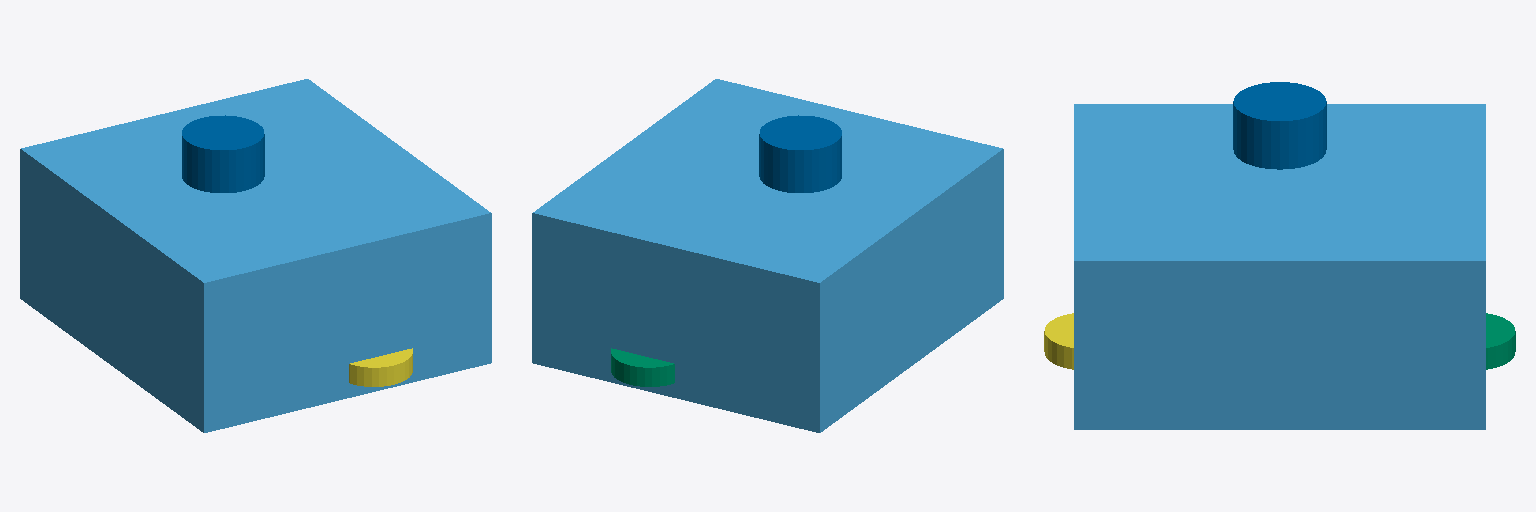
The robot description file, URDF, robot "turtlebot3_waffle":
<robot name="turtlebot3_waffle">
  
  <link name="base_footprint" />

  
  <link name="base_link">
    <visual>
      <geometry>
        <box size="0.28 0.31 0.14" />
      </geometry>
      <origin xyz="-0.032 0 0.07" />
    </visual>
    <collision>
      <geometry>
        <box size="0.28 0.31 0.14" />
      </geometry>
      <origin xyz="-0.032 0 0.07" />
    </collision>
    <inertial>
      <mass value="1.37" />
      <origin xyz="0 0 0" />
      <inertia ixx="0.0087" ixy="0" ixz="0" iyy="0.0086" iyz="0" izz="0.0146" />
    </inertial>
  </link>

  
  <joint name="base_joint" type="fixed">
    <parent link="base_footprint" />
    <child link="base_link" />
    <origin xyz="0 0 0.10" rpy="0 0 0" />
  </joint>

  
  <link name="wheel_left_link">
    <visual>
      <geometry>
        <cylinder length="0.018" radius="0.033" />
      </geometry>
      <origin xyz="0 0 0" rpy="1.57 0 0" />
    </visual>
    <collision>
      <geometry>
        <cylinder length="0.018" radius="0.033" />
      </geometry>
      <origin xyz="0 0 0" rpy="1.57 0 0" />
    </collision>
    <inertial>
      <mass value="0.028" />
      <origin xyz="0 0 0" />
      <inertia ixx="1.1e-5" ixy="0" ixz="0" iyy="1.1e-5" iyz="0" izz="2.1e-5" />
    </inertial>
  </link>

  <joint name="wheel_left_joint" type="continuous">
    <parent link="base_link" />
    <child link="wheel_left_link" />
    <origin xyz="0 0.144 0.023" rpy="-1.57 0 0" />
    <axis xyz="0 0 1" />
  </joint>

  
  <link name="wheel_right_link">
    <visual>
      <geometry>
        <cylinder length="0.018" radius="0.033" />
      </geometry>
      <origin xyz="0 0 0" rpy="1.57 0 0" />
    </visual>
    <collision>
      <geometry>
        <cylinder length="0.018" radius="0.033" />
      </geometry>
      <origin xyz="0 0 0" rpy="1.57 0 0" />
    </collision>
    <inertial>
      <mass value="0.028" />
      <origin xyz="0 0 0" />
      <inertia ixx="1.1e-5" ixy="0" ixz="0" iyy="1.1e-5" iyz="0" izz="2.1e-5" />
    </inertial>
  </link>

  <joint name="wheel_right_joint" type="continuous">
    <parent link="base_link" />
    <child link="wheel_right_link" />
    <origin xyz="0 -0.144 0.023" rpy="-1.57 0 0" />
    <axis xyz="0 0 1" />
  </joint>

  
  <link name="base_scan">
    <visual>
      <geometry>
        <cylinder length="0.04" radius="0.035" />
      </geometry>
      <origin xyz="0 0 0" />
    </visual>
    <collision>
      <geometry>
        <cylinder length="0.04" radius="0.035" />
      </geometry>
      <origin xyz="0 0 0" />
    </collision>
    <inertial>
      <mass value="0.125" />
      <origin xyz="0 0 0" />
      <inertia ixx="0.001" ixy="0" ixz="0" iyy="0.001" iyz="0" izz="0.001" />
    </inertial>
  </link>

  <joint name="scan_joint" type="fixed">
    <parent link="base_link" />
    <child link="base_scan" />
    <origin xyz="-0.064 0 0.172" rpy="0 0 0" />
  </joint>

  
  <link name="camera_link" />
  <joint name="camera_joint" type="fixed">
    <parent link="base_link" />
    <child link="camera_link" />
    <origin xyz="0.11 0 0.15" rpy="0 0 0" />
  </joint>
  <link name="camera_color_optical_frame" />
  <joint name="camera_color_optical_joint" type="fixed">
    <parent link="camera_link" />
    <child link="camera_color_optical_frame" />
    <origin xyz="0 0 0" rpy="-1.57079632679 0 -1.57079632679" />
  </joint>
<link name="rear_left_caster">
          <collision><geometry><sphere radius="0.005" /></geometry></collision>
          <visual><geometry><sphere radius="0.005" /></geometry></visual></link><joint name="rear_left_caster_centre" type="fixed">
          <parent link="base_link" /><child link="rear_left_caster" /><origin xyz="-0.14 0.064 -0.005" rpy="0 0 0" /></joint><link name="rear_right_caster">
          <collision><geometry><sphere radius="0.005" /></geometry></collision>
          <visual><geometry><sphere radius="0.005" /></geometry></visual></link><joint name="rear_right_caster_centre" type="fixed">
          <parent link="base_link" /><child link="rear_right_caster" /><origin xyz="-0.14 -0.064 -0.005" rpy="0 0 0" /></joint></robot>

--- What the picture shows (computed from the rendered views, not written in the file) ---
Views: 3 orthographic renders of the robot side by side, from view 1: azimuth 30°, elevation 25°; view 2: azimuth 150°, elevation 25°; view 3: azimuth 270°, elevation 25°.
Model turtlebot3_waffle with 9 links and 8 joints (2 continuous, 6 fixed), rooted at base_footprint, posed every joint at zero.
Visible links, largest first — view 1: base_link, base_scan, wheel_right_link; view 2: base_link, base_scan, wheel_left_link; view 3: base_link, base_scan, wheel_left_link, wheel_right_link.
Link boxes in pixels (x1,y1,x2,y2): base_link: (20,79,491,432); base_scan: (182,115,264,192); wheel_right_link: (349,348,412,386); base_link: (532,79,1003,432); base_scan: (759,115,841,192); wheel_left_link: (611,348,674,386); base_link: (1074,104,1485,429); base_scan: (1233,82,1326,169); wheel_left_link: (1486,313,1515,369); wheel_right_link: (1044,313,1073,369).
Size in the robot's own frame: 0.28 by 0.354 by 0.202 metres.
Geometry: primitives only (box / cylinder / sphere), no mesh files.
